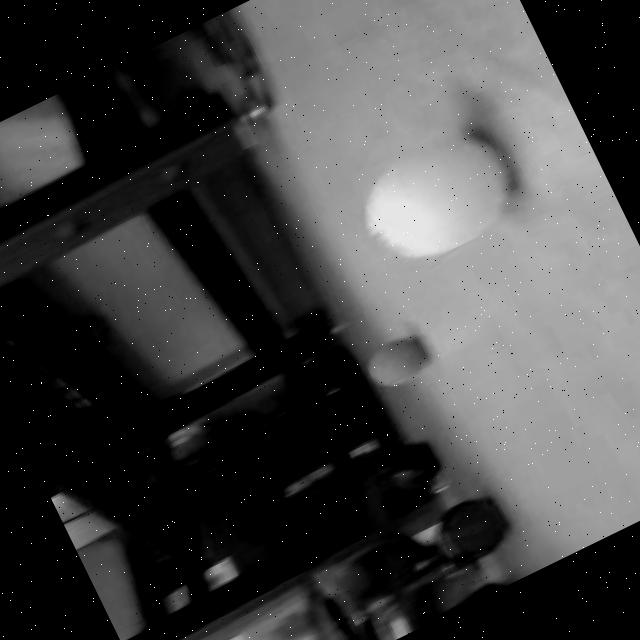ping-pong-ball: (337, 107, 538, 286), (349, 316, 442, 402)
